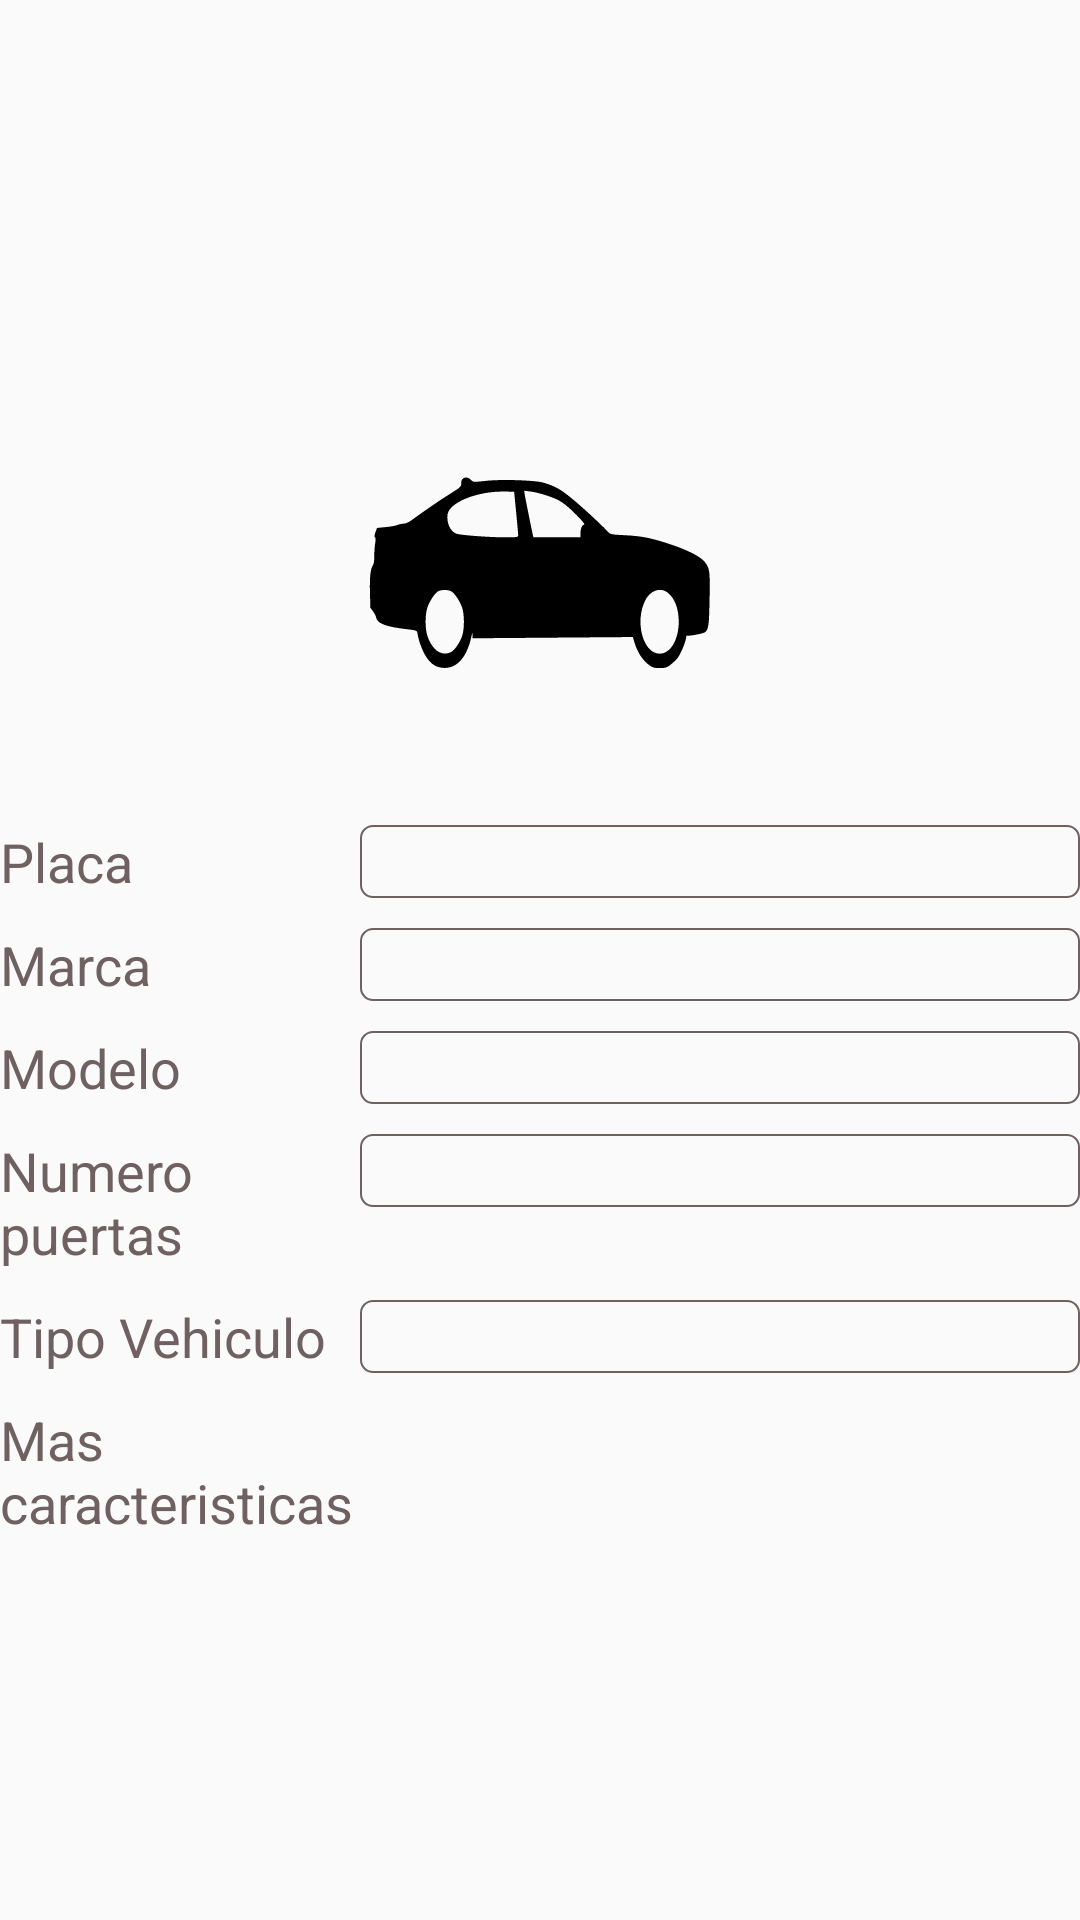

Screen size 1080w x 1920h. Icon name, then its center in pixels as (x=x, y=y):
car: (x=539, y=572)
